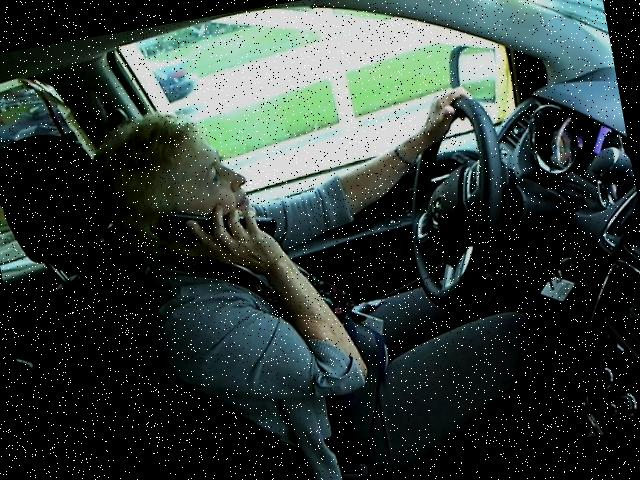c2 - Talking on the phone: (66, 49, 548, 448)
